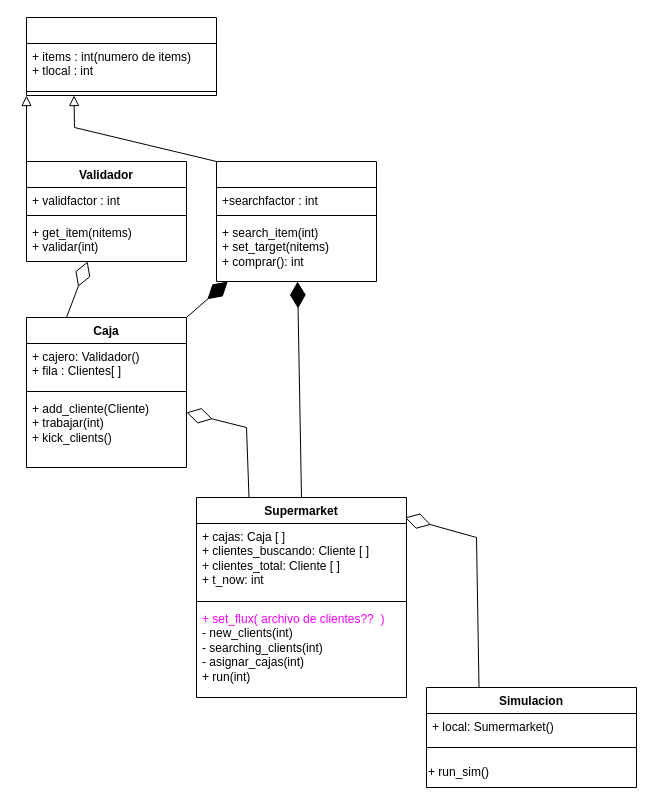
The diagram is 654 pixels wide and 805 high, and some of its shapes have lost their labels. The shapes that lost their labels are listed below. From the top down, each one's box as (x1, y1, x2, y2) in pixels, then its label:
(26, 16, 216, 96): Persona
(216, 160, 376, 282): Cliente
